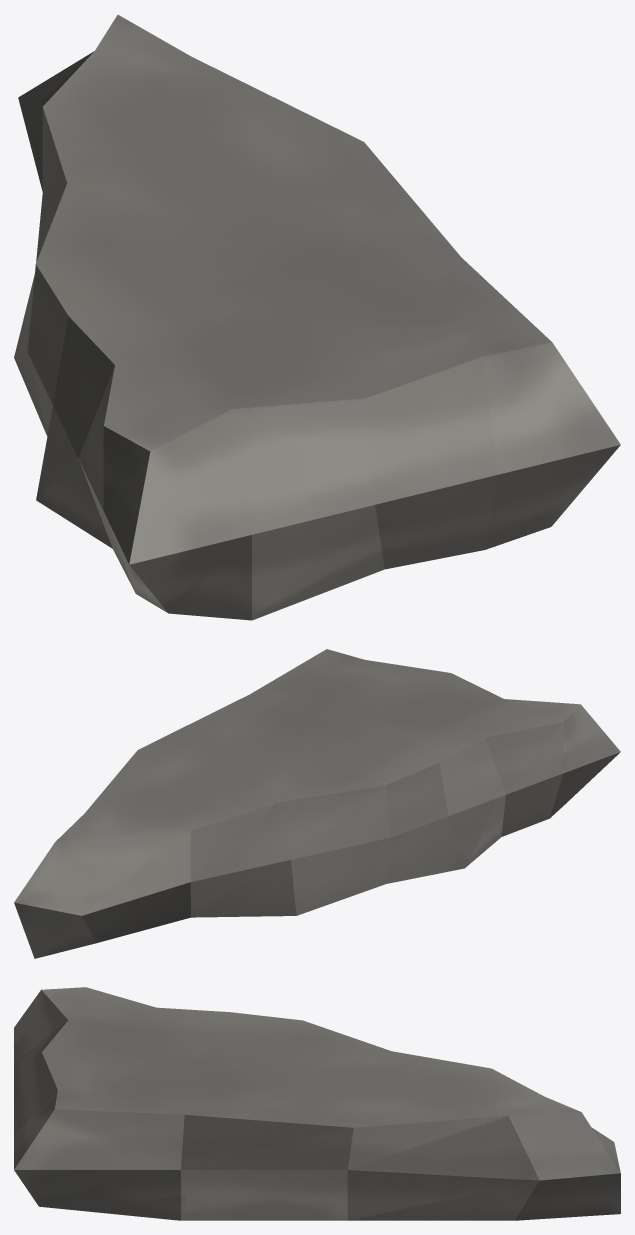
Rendered from floating_path_2.fbx.
3 renders of one model, top to bottom at view 1: azimuth 30°, elevation 25°; view 2: azimuth 150°, elevation 25°; view 3: azimuth 270°, elevation 25°, orthographic. The views are drawn at different scales.
Parts seen in each view (by area): view 1: floating_path_2; view 2: floating_path_2; view 3: floating_path_2.
Boxes of the visible parts, x1,y1,x2,y2 form: floating_path_2: (14, 15, 620, 620); floating_path_2: (14, 649, 620, 958); floating_path_2: (14, 987, 620, 1220).
Size of the model in its own units: 155 by 48.14 by 261.
